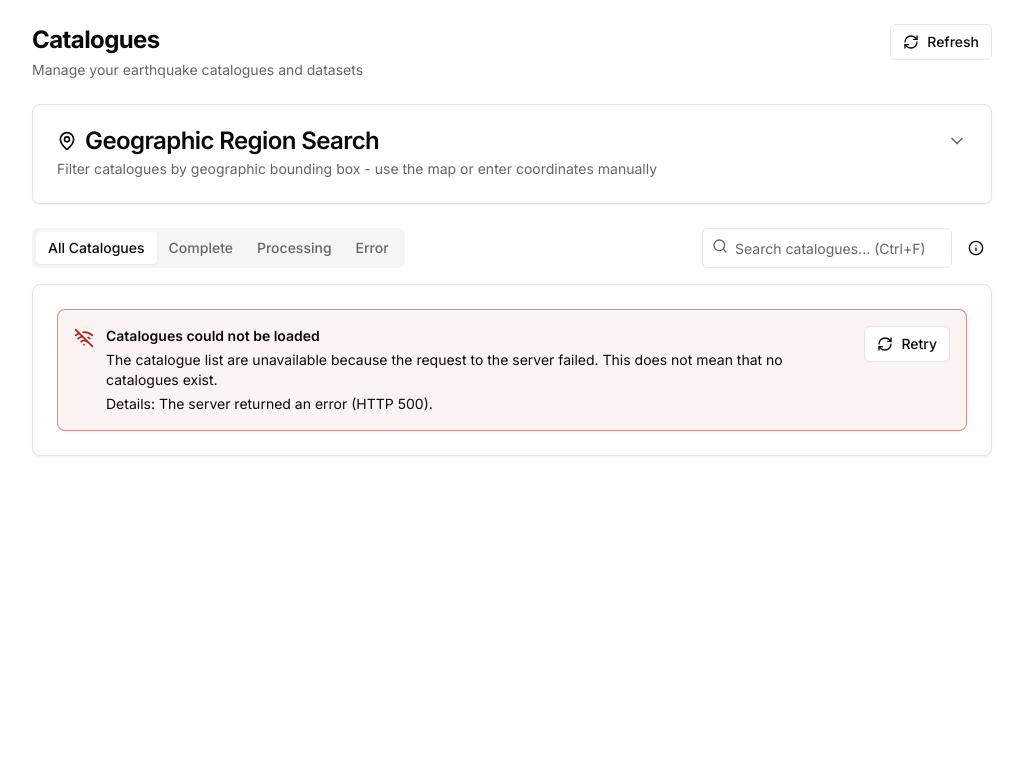
Test: catalogue list page › shows a failure with Retry instead of "no catalogues", and recovers on Retry
The image size is (1024, 768).
expect the message shows "Catalogues could not be loaded": met, box [106,327,320,344]
expect the message shows "This does not mean that no catalogues exist.": met, box [106,351,783,388]
Click the button "Retry" at (907, 344), box [864,326,950,362]
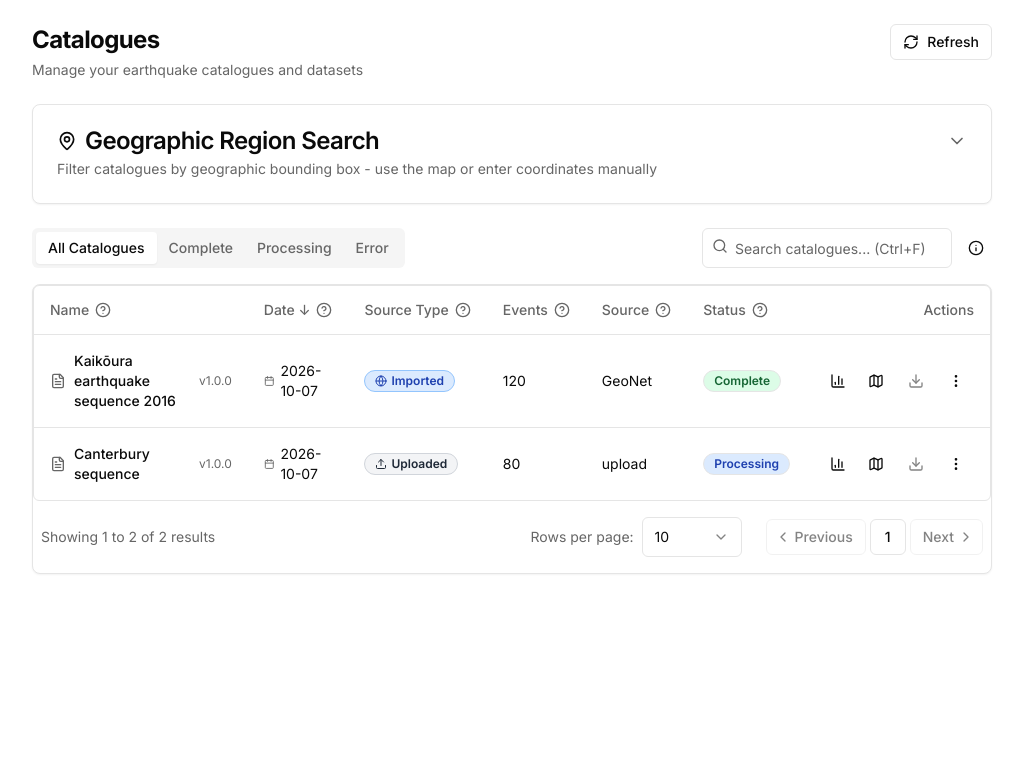
expect the message is gone: met
